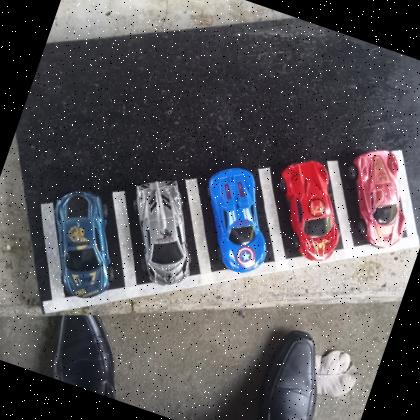Car: (107, 168, 217, 295), (184, 159, 291, 280), (29, 183, 134, 306), (258, 151, 360, 266), (329, 139, 420, 254)
